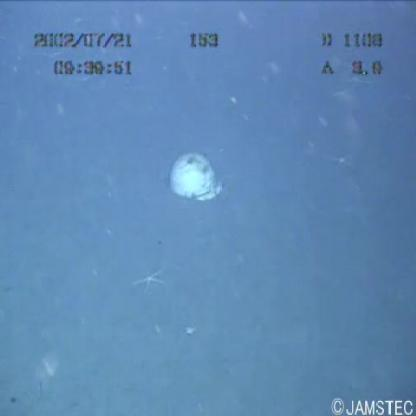Rác: (154, 144, 231, 204)
